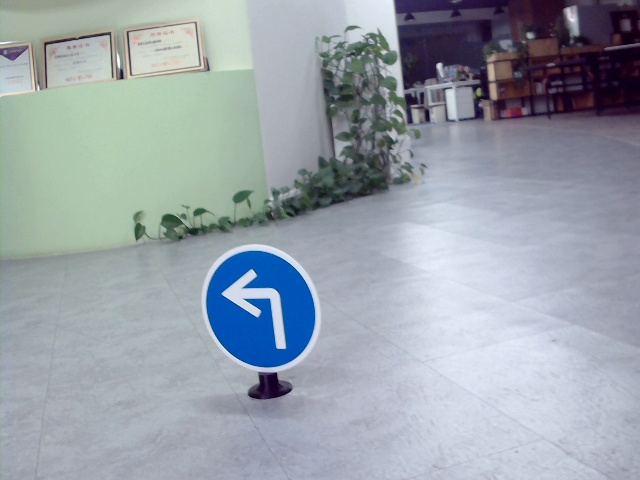turn_left: (222, 267, 294, 354)
